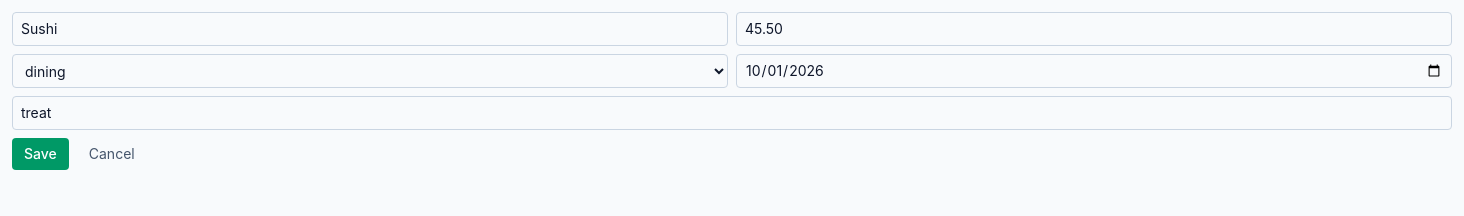
Scenario: EntryEditor › does not save with bad amount
The width and height of the screenshot is (1464, 216).
Replace the text in the field named "Amount" with "abc" at (1094, 29), box x1=736 y1=12 x2=1452 y2=46
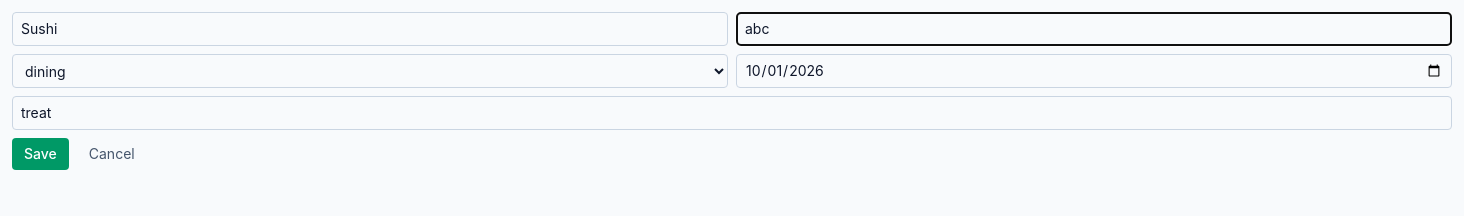
Click the button "Save".
click(40, 154)  # box x1=12 y1=138 x2=69 y2=170
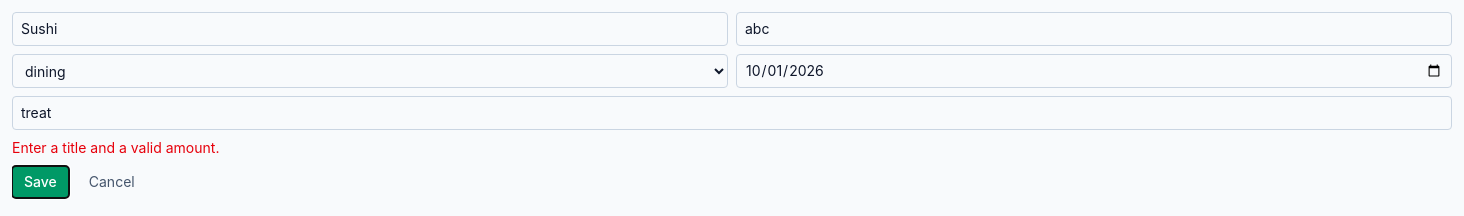
Result: the text "Enter a title and a valid amount." is shown at x1=12 y1=139 x2=219 y2=156
